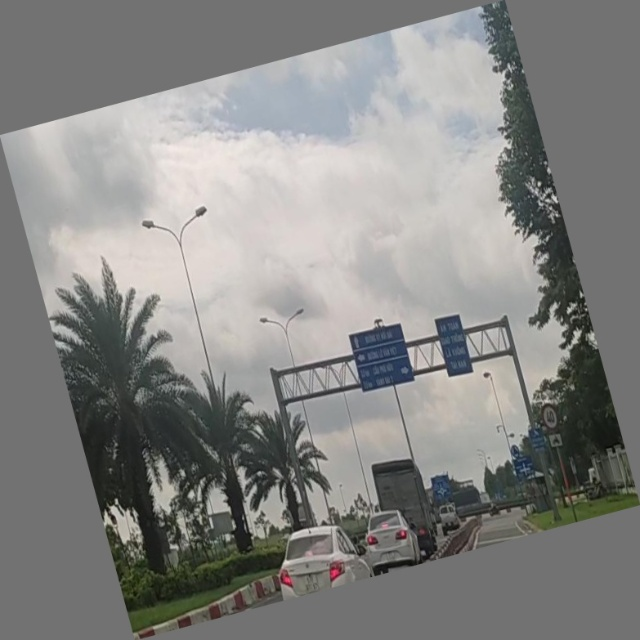P.127*40: (539, 402, 561, 432)
S.505a*Xe may: (546, 429, 565, 450)
